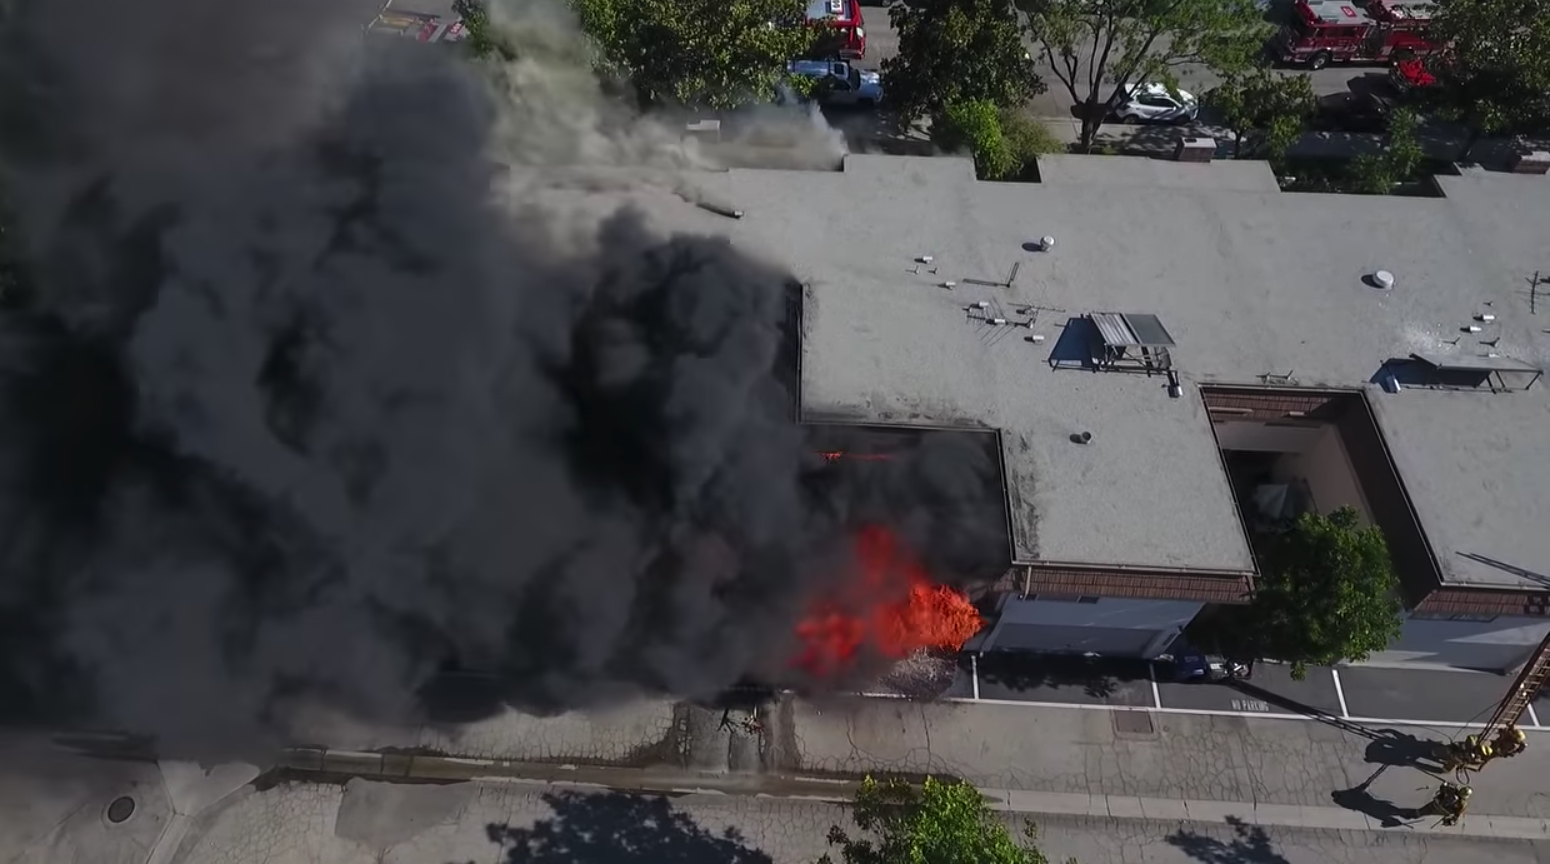fire: (791, 506, 1012, 674)
